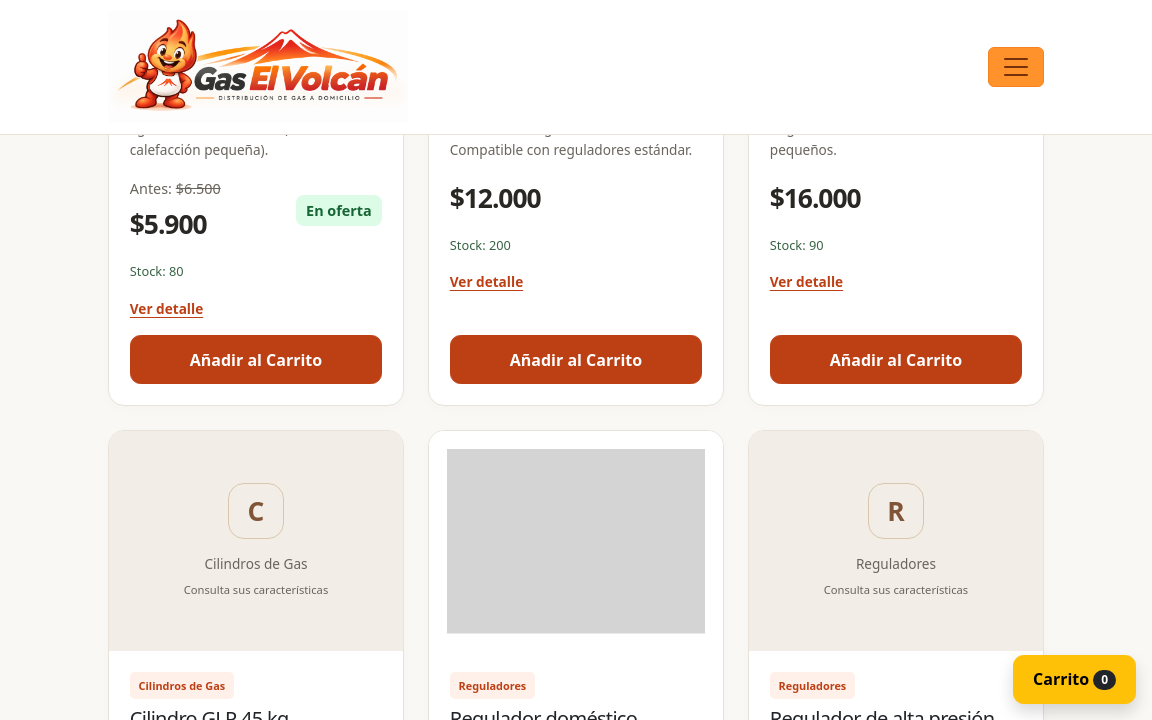
Test: agrega productos y muestra sidebar con numeración
The width and height of the screenshot is (1152, 720).
(page scrolled)
Step 1. Click the button "Añadir al Carrito" below "Stock: 90" → x=896, y=360, box [770, 335, 1022, 384]
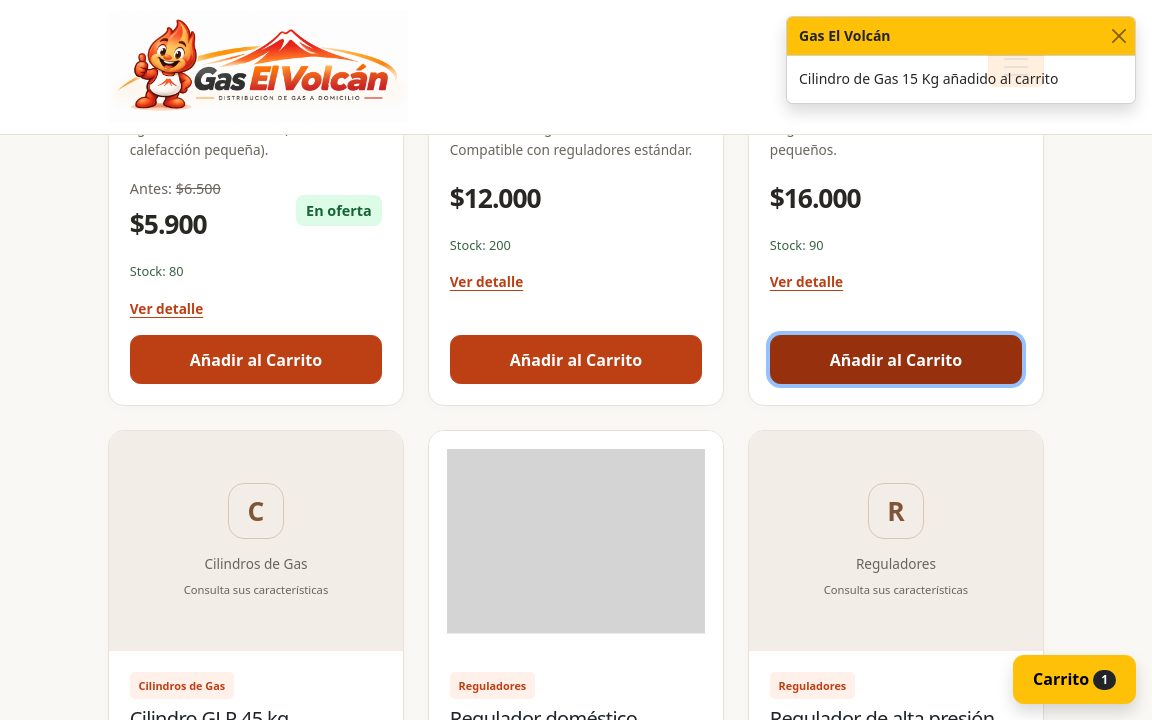
Step 2. Click the button "Añadir al Carrito" below "Stock: 90" → x=896, y=360, box [770, 335, 1022, 384]
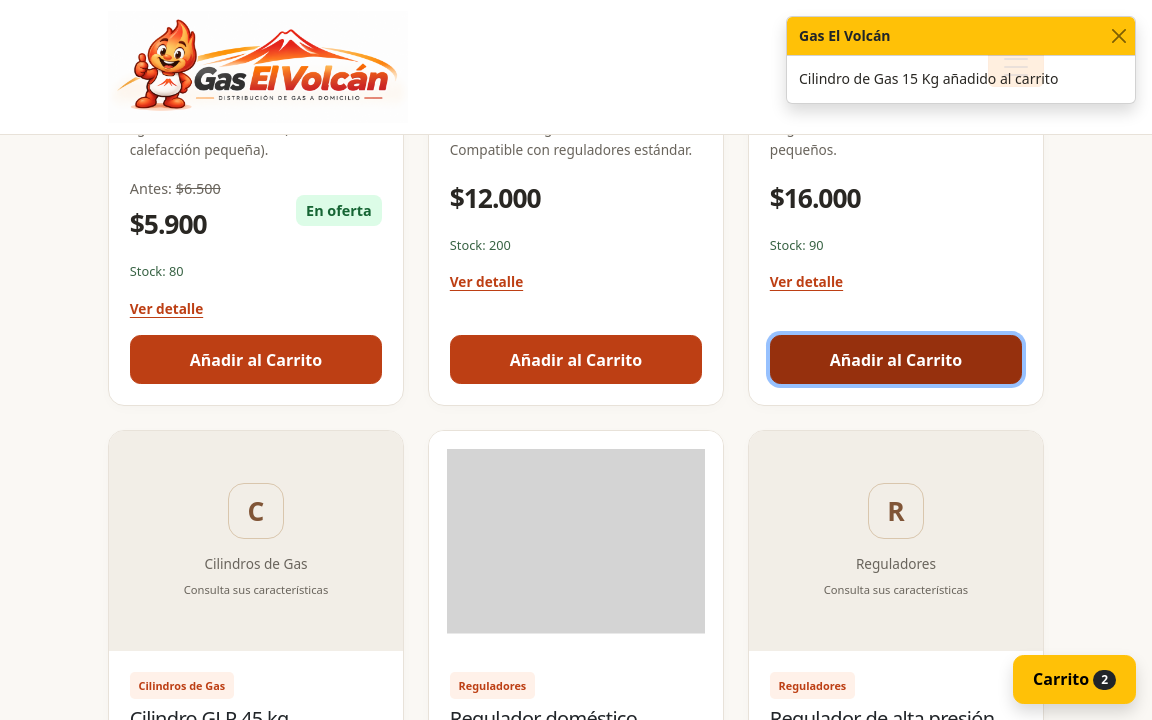
Step 3. Click the button "Carrito 2" → x=1074, y=679, box [1013, 655, 1136, 704]
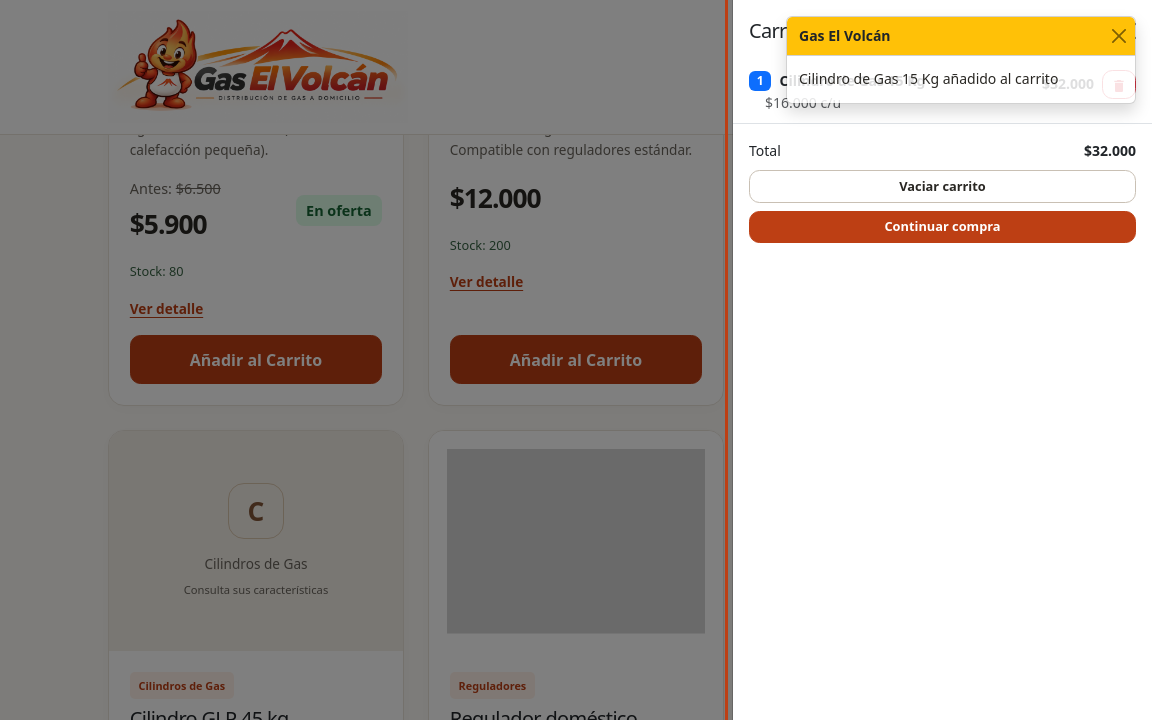
Now the text "1" is shown, box [749, 71, 772, 91]
Now the text "Cilindro de Gas 15 Kg" is shown, box [780, 70, 926, 92]
Now the text "$32.000" is shown 2 times, box [1042, 73, 1094, 96]; [1084, 140, 1136, 162]
